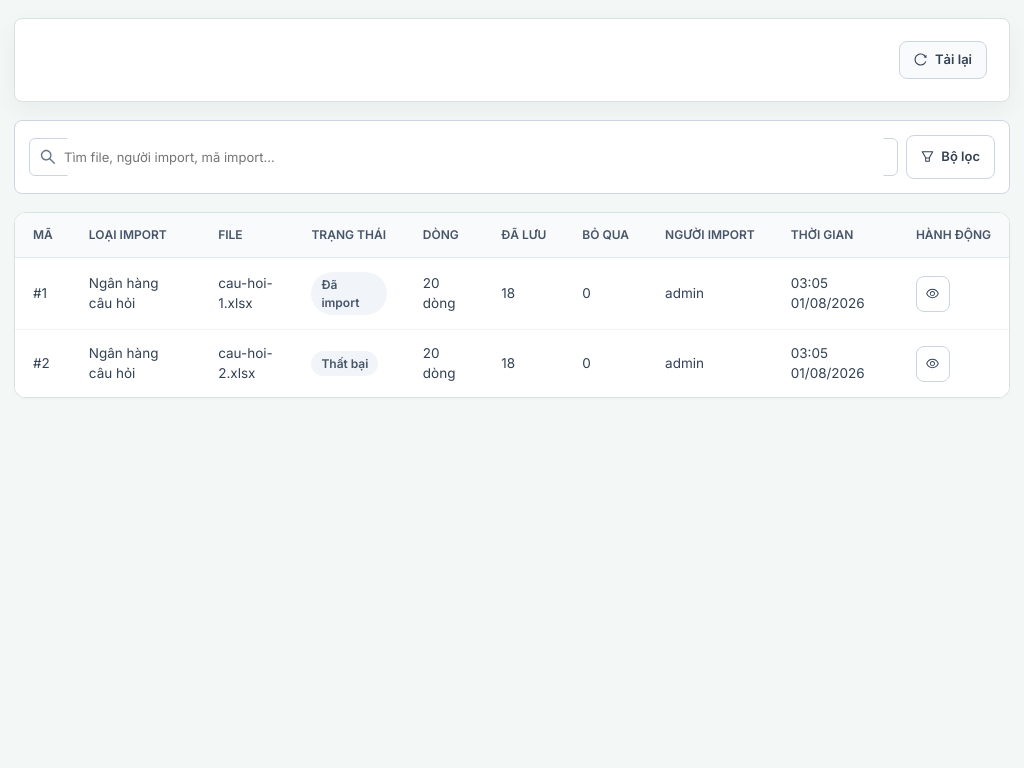
it: EvaluationImportHistoryPage - chi tiết import › mở chi tiết và hiển thị các dòng import
Expected: the text "#1" is shown, [15, 258, 71, 330]
Click the button titled "Xem chi tiết" in the row of "cau-hoi-1.xlsx": (933, 294) [916, 276, 950, 312]
(page scrolled)
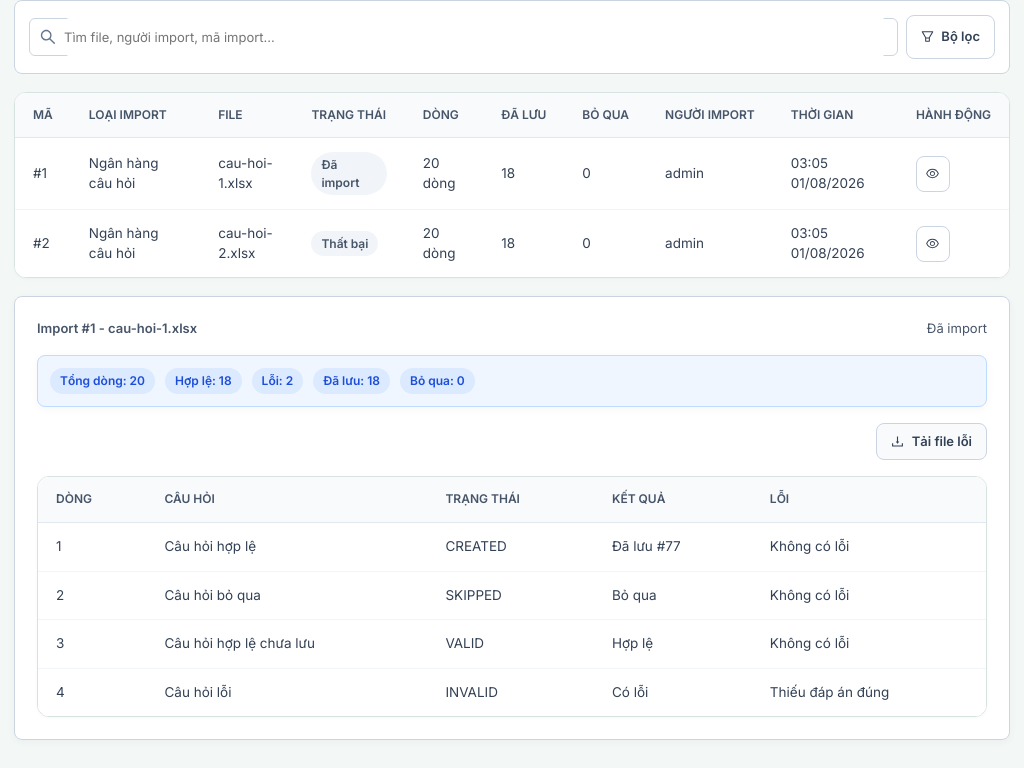
Result: the text "Import #1 - cau-hoi-1.xlsx" is shown at [37, 319, 197, 339]
Result: the text "Tổng dòng: 20" is shown at [50, 368, 155, 394]
Result: the text "Hợp lệ: 18" is shown at [165, 368, 242, 394]
